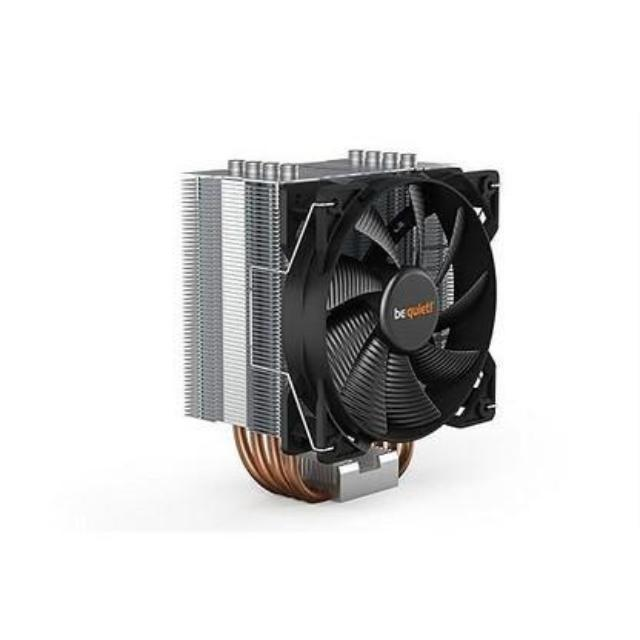CPU_Fan: (178, 148, 500, 512)
